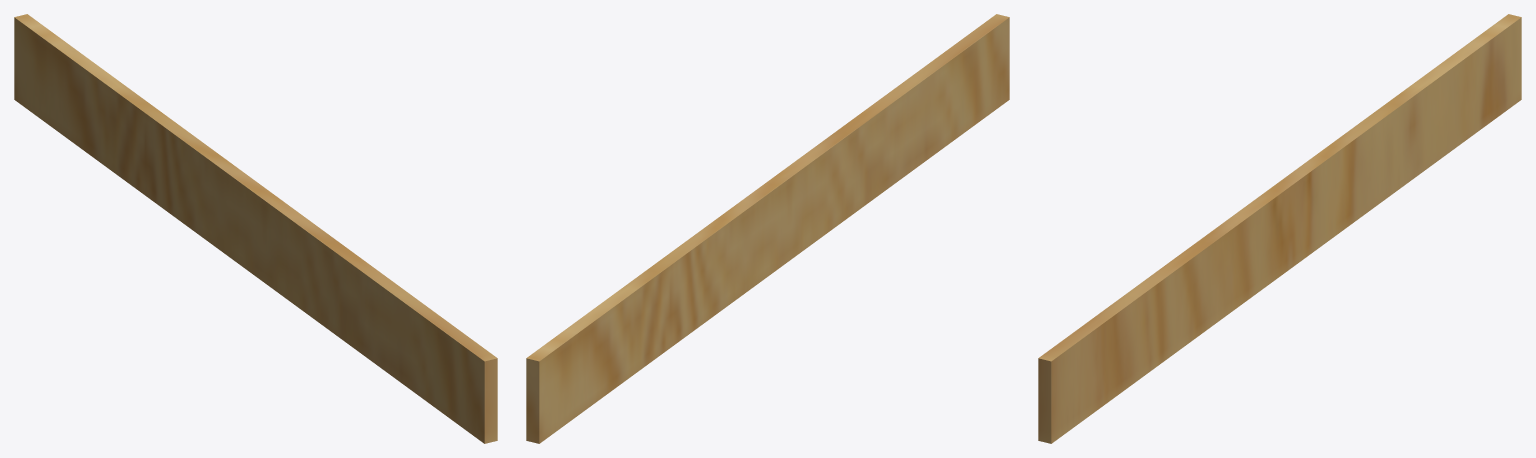
The model's file is original-26.obj.
The picture shows the model from 3 angles, left to right: view 1: azimuth 30°, elevation 25°; view 2: azimuth 150°, elevation 25°; view 3: azimuth 330°, elevation 25°; orthographic projection.
Parts seen in each view (by area): view 1: Group26/mesh51/mesh51-geometry#mesh51-geometry; view 2: Group26/mesh51/mesh51-geometry#mesh51-geometry; view 3: Group26/mesh51/mesh51-geometry#mesh51-geometry.
Boxes of the visible parts, bbox=[...] form: Group26/mesh51/mesh51-geometry#mesh51-geometry: bbox=[14, 14, 497, 443]; Group26/mesh51/mesh51-geometry#mesh51-geometry: bbox=[526, 14, 1009, 443]; Group26/mesh51/mesh51-geometry#mesh51-geometry: bbox=[1038, 14, 1521, 443].
Bounding box in the file's own units: 0.00327 × 0.0196 × 0.203.
